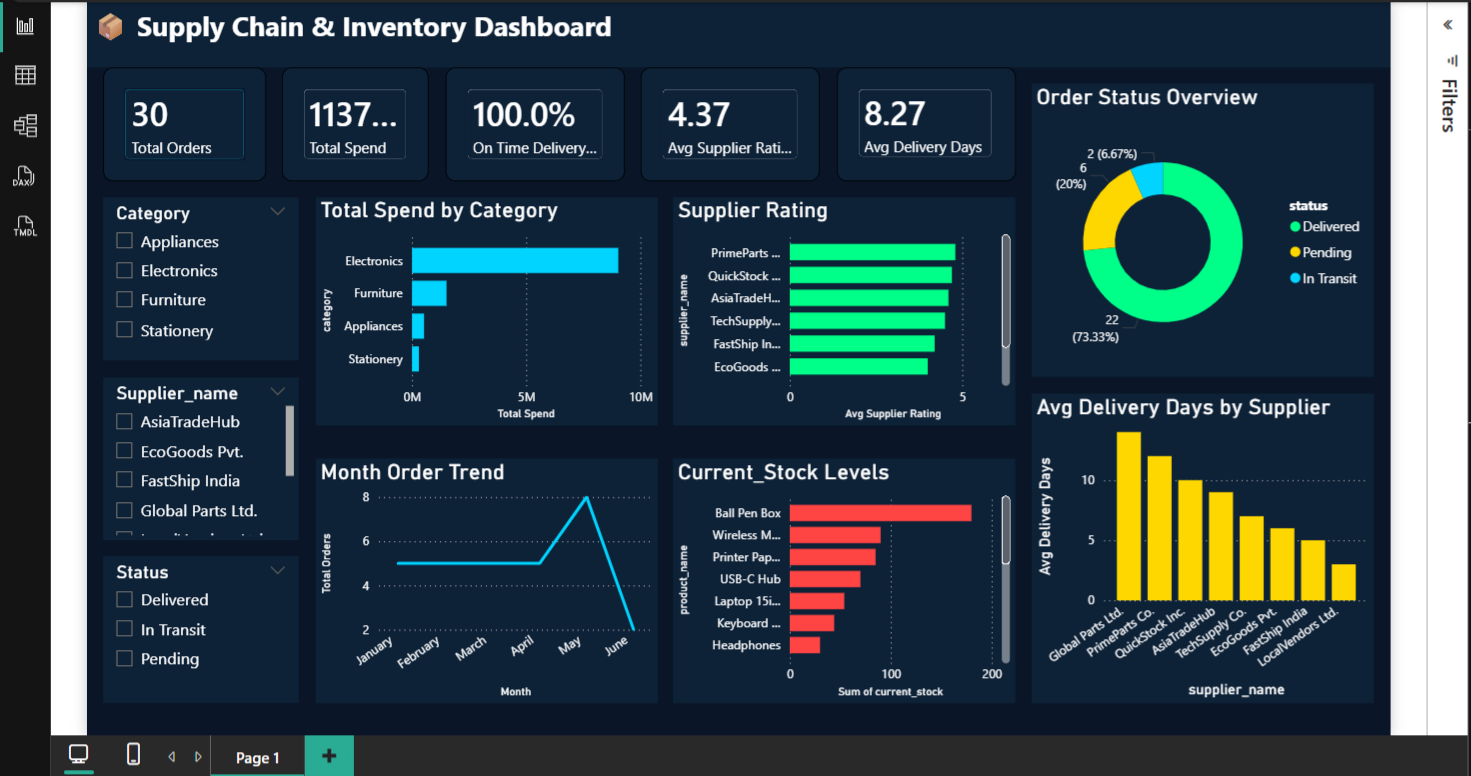

The page's visual inventory and layout, read from the dashboard file:
{"tool":"powerbi","page":{"name":"Page 1","canvas":[1280,720],"ordinal":0},"visuals":[{"type":"textbox","box":[0,0,1280,64],"z":0},{"type":"cardVisual","fields":{"Data":["inventory.Total Orders"]},"box":[16,64,160,112],"z":1},{"type":"cardVisual","fields":{"Data":["inventory.Total Spend"]},"box":[192,64,144,112],"z":2},{"type":"cardVisual","fields":{"Data":["inventory.Avg Delivery Days"]},"box":[736,64,176,112],"z":3},{"type":"cardVisual","fields":{"Data":["inventory.Avg Supplier Rating"]},"box":[544,64,176,112],"z":4},{"type":"cardVisual","fields":{"Data":["inventory.On Time Delivery %"]},"box":[352,64,176,112],"z":5},{"type":"donutChart","title":"Order Status Overview","fields":{"Category":["supply_chain_summary.status"],"Y":["inventory.Total Orders"]},"box":[928,80,336,288],"z":6},{"type":"clusteredBarChart","title":"Total Spend by Category","fields":{"Category":["supply_chain_summary.category"],"Y":["inventory.Total Spend"]},"box":[224,192,336,224],"z":7},{"type":"clusteredBarChart","title":"Supplier Rating","fields":{"Category":["supply_chain_summary.supplier_name"],"Y":["inventory.Avg Supplier Rating"]},"box":[576,192,336,224],"z":8},{"type":"lineChart","title":"Month Order Trend","fields":{"Category":["supply_chain_summary.order_date.Variation.Date Hierarchy.Month"],"Y":["inventory.Total Orders"]},"box":[224,448,336,240],"z":9},{"type":"clusteredBarChart","title":"Current_Stock Levels","fields":{"Category":["supply_chain_summary.product_name"],"Y":["Sum(supply_chain_summary.current_stock)"]},"box":[576,448,336,240],"z":10},{"type":"clusteredColumnChart","title":"Avg Delivery Days by Supplier","fields":{"Category":["supply_chain_summary.supplier_name"],"Y":["inventory.Avg Delivery Days"]},"box":[928,384,336,304],"z":11},{"type":"slicer","fields":{"Values":["supply_chain_summary.category"]},"box":[16,192,192,160],"z":12},{"type":"slicer","fields":{"Values":["supply_chain_summary.supplier_name"]},"box":[16,368,192,160],"z":13},{"type":"slicer","fields":{"Values":["supply_chain_summary.status"]},"box":[16,544,192,144],"z":14}]}

Visuals, with their boxes on the page's 1280x720 design canvas (x1, y1, x2, y2). These are canvas units, not pixel positions in the 1471x776 screenshot, which may show the page scaled, cropped or inside an application window:
textbox: box(0, 0, 1280, 64)
cardVisual - inventory.Total Orders: box(16, 64, 176, 176)
cardVisual - inventory.Total Spend: box(192, 64, 336, 176)
cardVisual - inventory.Avg Delivery Days: box(736, 64, 912, 176)
cardVisual - inventory.Avg Supplier Rating: box(544, 64, 720, 176)
cardVisual - inventory.On Time Delivery %: box(352, 64, 528, 176)
"Order Status Overview" donutChart: box(928, 80, 1264, 368)
"Total Spend by Category" clusteredBarChart: box(224, 192, 560, 416)
"Supplier Rating" clusteredBarChart: box(576, 192, 912, 416)
"Month Order Trend" lineChart: box(224, 448, 560, 688)
"Current_Stock Levels" clusteredBarChart: box(576, 448, 912, 688)
"Avg Delivery Days by Supplier" clusteredColumnChart: box(928, 384, 1264, 688)
slicer - supply_chain_summary.category: box(16, 192, 208, 352)
slicer - supply_chain_summary.supplier_name: box(16, 368, 208, 528)
slicer - supply_chain_summary.status: box(16, 544, 208, 688)
